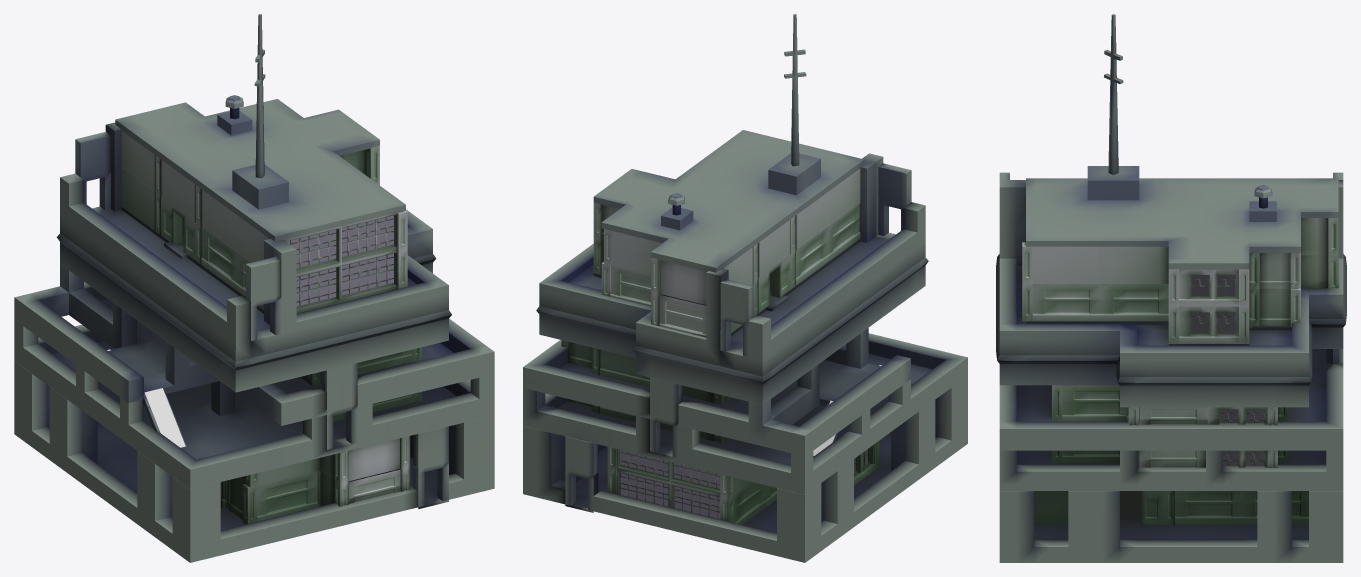
The picture shows the model from 3 angles, left to right: view 1: azimuth 30°, elevation 25°; view 2: azimuth 150°, elevation 25°; view 3: azimuth 270°, elevation 25°; orthographic projection. The views are drawn at different scales.
Visible parts, largest first — view 1: Object07, two_tank_roof13, two_tank_roof17, Object08, two_tank_roof16, 1 bed loft02, 1 bed loft01, glass 1 bed loft 02, metal02, two_tank_roof07, ramp01, 1 bed 1 bath03 (+1 smaller); view 2: Object07, two_tank_roof17, Object08, two_tank_roof13, two_tank_roof16, 1 bed loft02, 1 bed loft01, glass 1 bed loft 01, 1 bed 1 bath03, two_tank_roof07, metal02, 1 bed 1 bath02; view 3: Object07, Object08, 1 bed loft02, two_tank_roof17, two_tank_roof16, two_tank_roof13, 1 bed loft01, 1 bed 1 bath03, metal02, 1 bed 1 bath02, glass 1 bed loft 02, glass 1 bed 1 bath02 (+1 smaller).
Boxes of the visible parts, bbox=[...] form: Object07: bbox=[57, 122, 451, 392]; two_tank_roof13: bbox=[14, 320, 494, 489]; two_tank_roof17: bbox=[14, 361, 494, 562]; Object08: bbox=[115, 99, 405, 241]; two_tank_roof16: bbox=[14, 264, 494, 425]; 1 bed loft02: bbox=[121, 131, 407, 313]; 1 bed loft01: bbox=[220, 436, 410, 524]; glass 1 bed loft 02: bbox=[286, 215, 393, 306]; metal02: bbox=[142, 14, 394, 447]; two_tank_roof07: bbox=[413, 426, 448, 507]; ramp01: bbox=[107, 349, 185, 447]; 1 bed 1 bath03: bbox=[300, 347, 421, 385]; Object07: bbox=[536, 153, 928, 404]; two_tank_roof17: bbox=[523, 376, 967, 562]; Object08: bbox=[593, 130, 864, 272]; two_tank_roof13: bbox=[523, 333, 967, 494]; two_tank_roof16: bbox=[523, 328, 910, 456]; 1 bed loft02: bbox=[593, 168, 860, 337]; 1 bed loft01: bbox=[607, 440, 879, 524]; glass 1 bed loft 01: bbox=[620, 449, 867, 518]; 1 bed 1 bath03: bbox=[561, 340, 731, 404]; two_tank_roof07: bbox=[565, 436, 598, 511]; metal02: bbox=[668, 14, 912, 474]; 1 bed 1 bath02: bbox=[568, 399, 727, 443]; Object07: bbox=[996, 172, 1346, 407]; Object08: bbox=[1026, 166, 1338, 269]; 1 bed loft02: bbox=[1022, 218, 1338, 343]; two_tank_roof17: bbox=[999, 491, 1343, 562]; two_tank_roof16: bbox=[999, 349, 1343, 450]; two_tank_roof13: bbox=[999, 349, 1343, 490]; 1 bed loft01: bbox=[1034, 491, 1308, 524]; 1 bed 1 bath03: bbox=[1052, 385, 1288, 425]; metal02: bbox=[1104, 14, 1272, 465]; 1 bed 1 bath02: bbox=[1052, 450, 1288, 467]; glass 1 bed loft 02: bbox=[1191, 275, 1235, 333]; glass 1 bed 1 bath02: bbox=[1223, 450, 1263, 465].
Size of the model in its own units: 2020 by 3004 by 2040.
